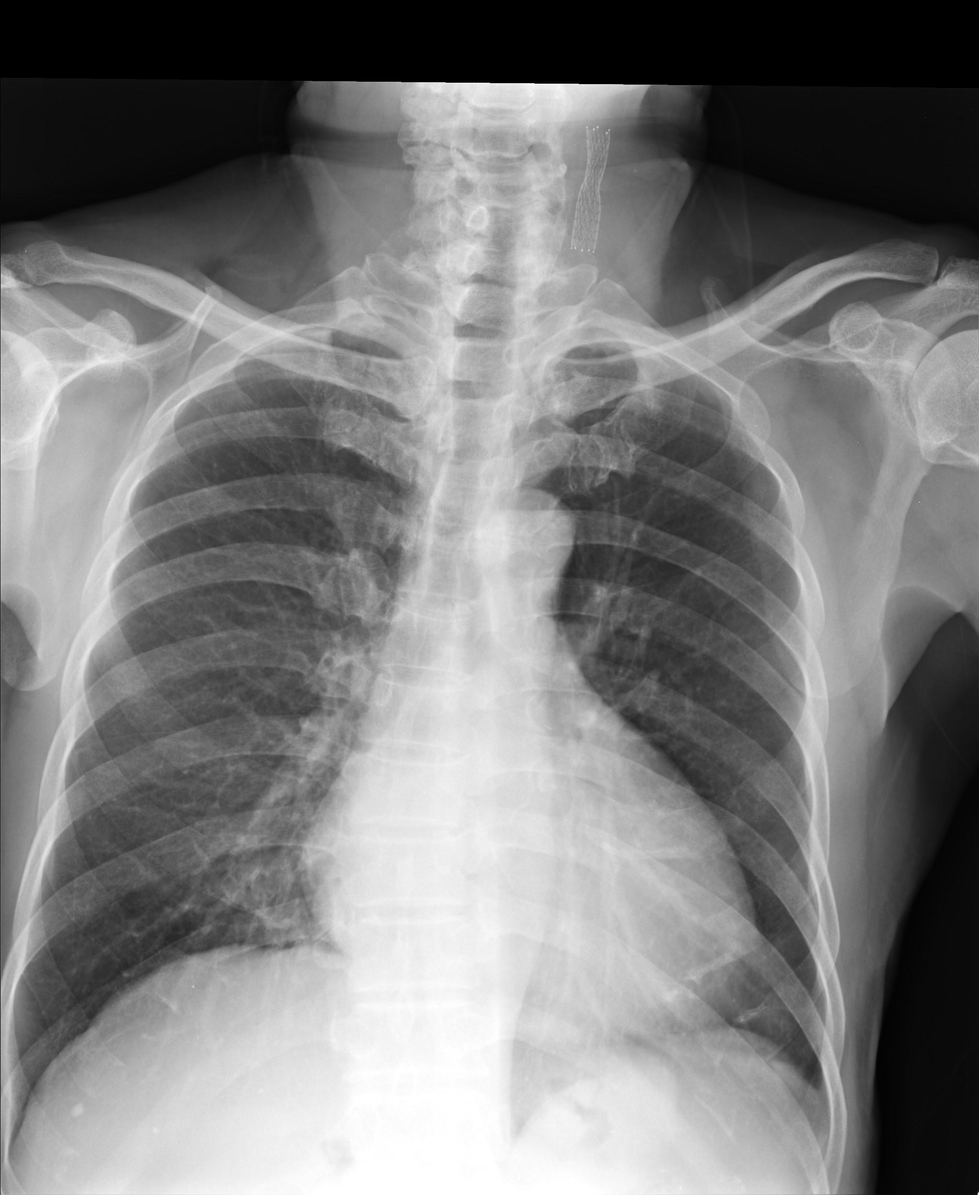Aortic enlargement: (465, 485, 580, 591)
Cardiomegaly: (290, 790, 773, 1057)
Pleural thickening: (791, 1052, 839, 1126), (317, 326, 403, 360), (554, 341, 663, 357)
